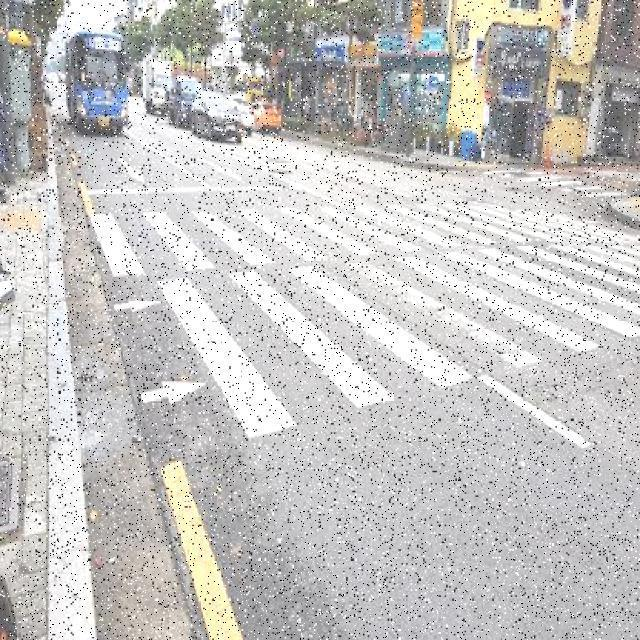Pedestrian crosswalk: (86, 205, 640, 445), (491, 162, 617, 231)
